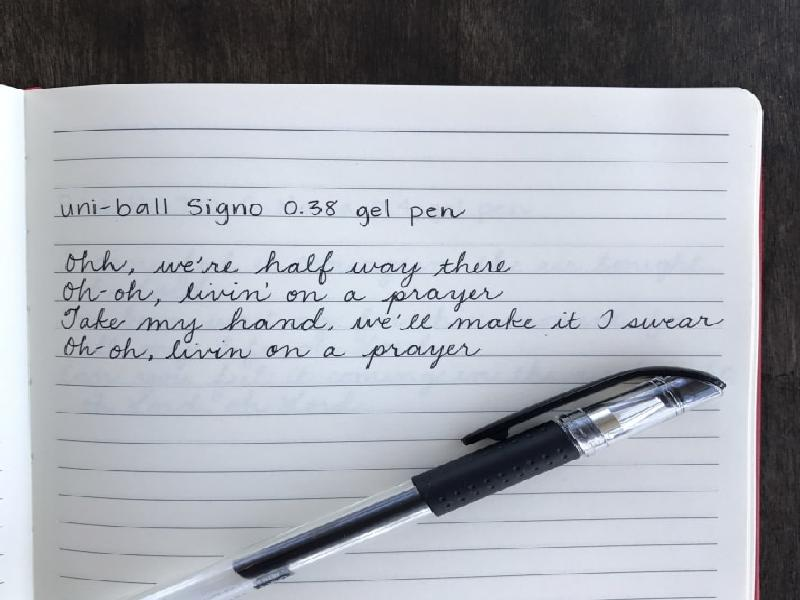pen: (115, 362, 734, 596)
